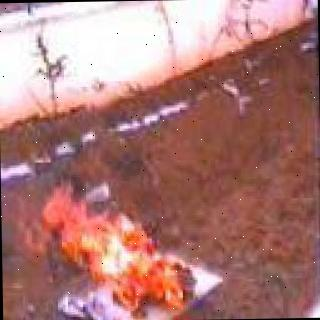fire: (20, 176, 202, 320)
